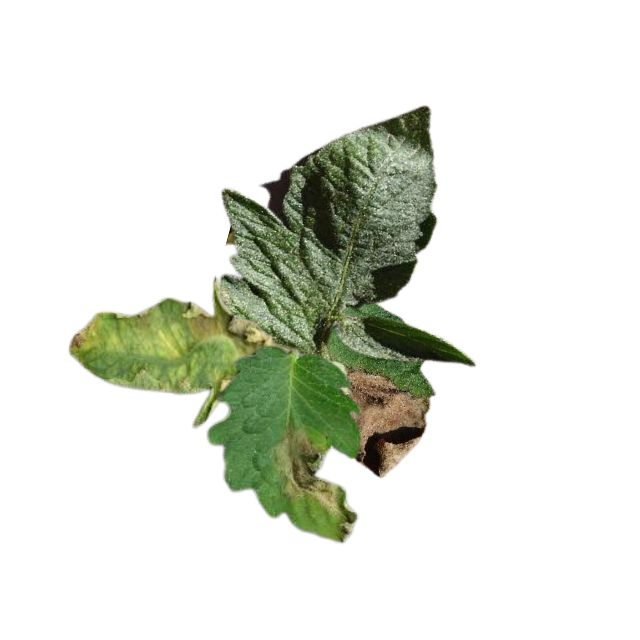Late_blight: (267, 425, 359, 544), (343, 364, 430, 478), (185, 301, 271, 358), (67, 313, 100, 356)
